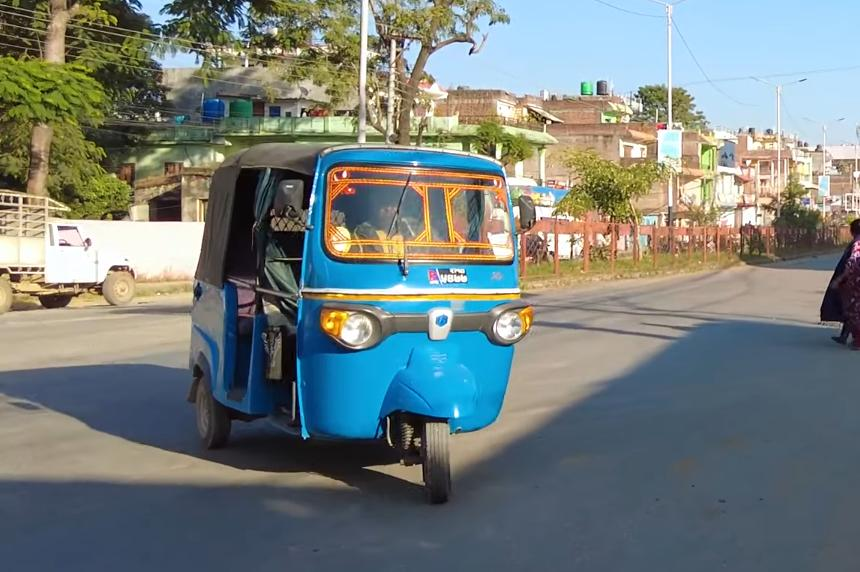auto_rickshaw: (181, 137, 533, 509)
transport_vehicle: (0, 188, 145, 311)
